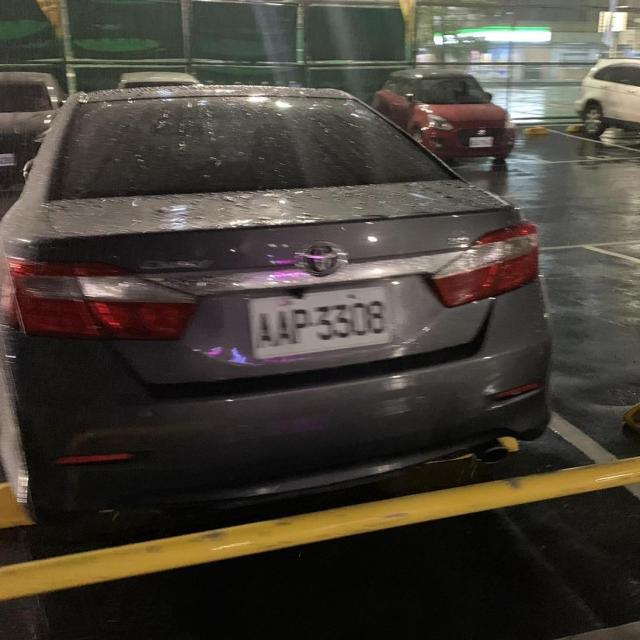W: (242, 284, 396, 357), (466, 134, 497, 150)
